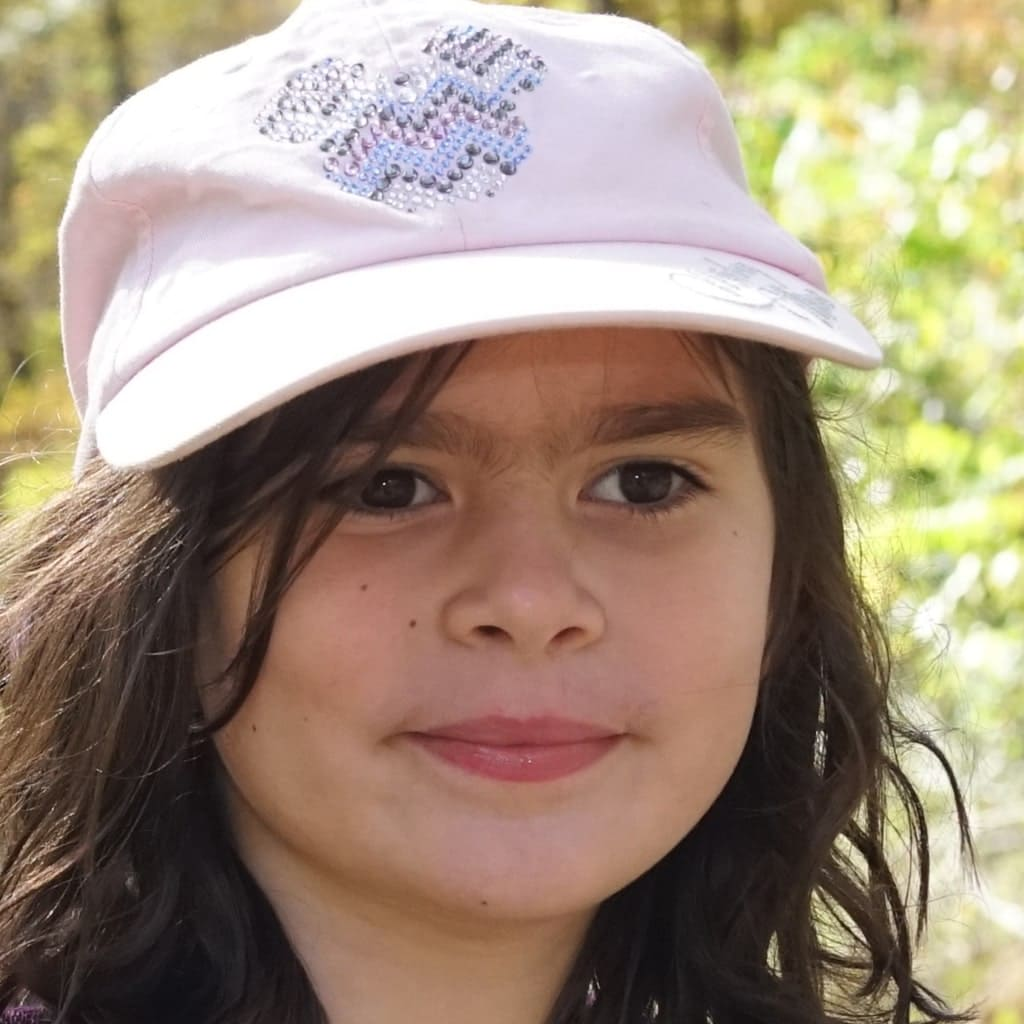without_mask: (211, 233, 767, 916)
